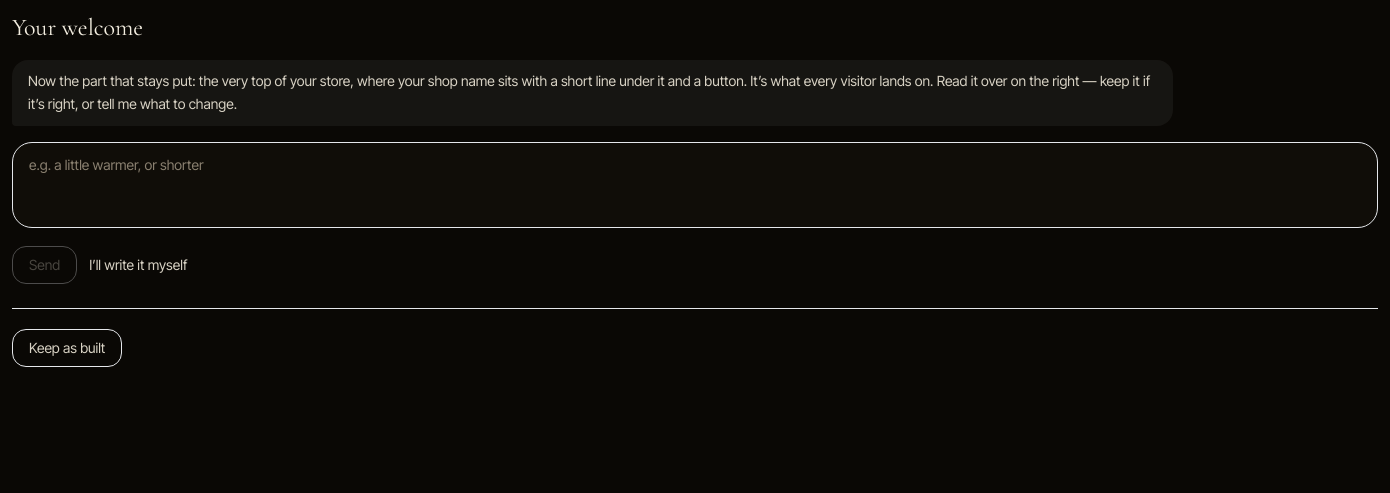
Test: SectionEditor — conversation › sending a reply appends the maker turn and Bohdi’s follow-up
Step 1. Type "It should feel calm and a little witchy" into the text box with placeholder "e.g. a little warmer, or shorter" → (695, 184), box 12,142 -> 1378,228
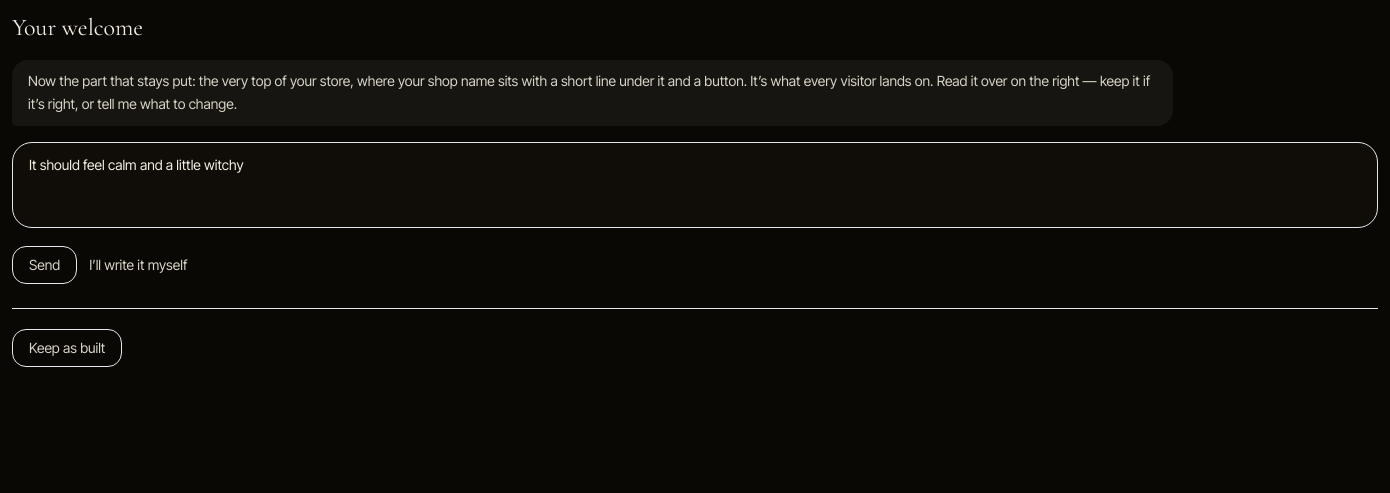
Step 2. Click the button "Send" → (45, 264), box 12,246 -> 77,284
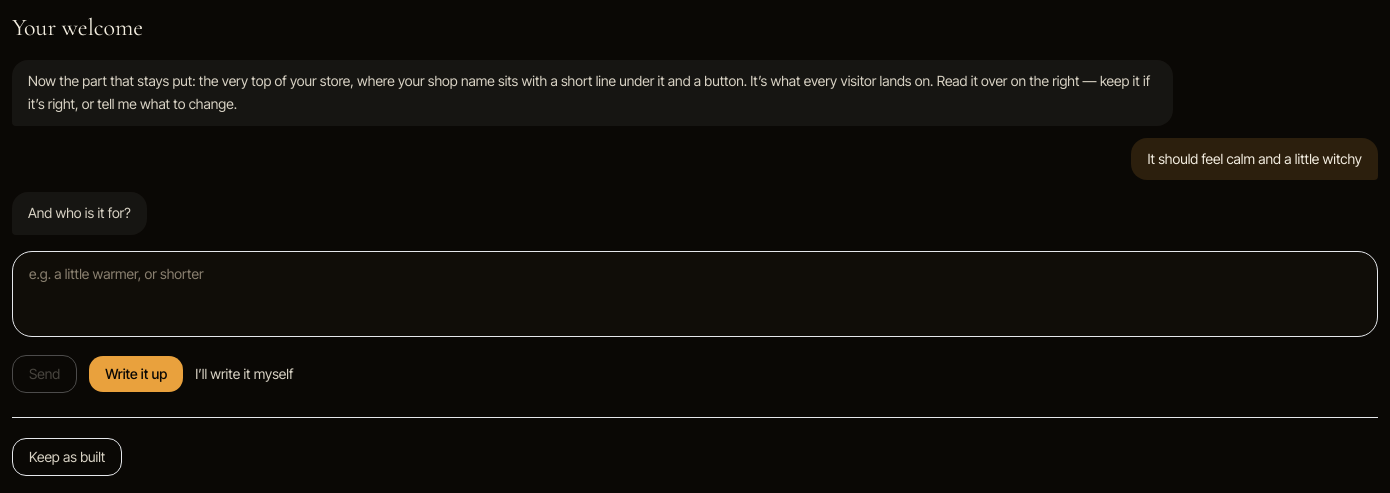
expect the text "And who is it for?" is shown: met, box 12,192 -> 147,235
expect the text "It should feel calm and a little witchy" is shown: met, box 1131,138 -> 1378,180
